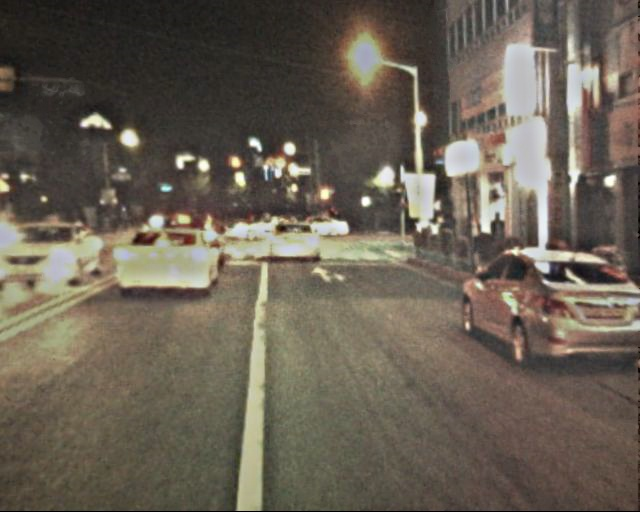person: (488, 213, 512, 272), (97, 203, 150, 229), (467, 213, 484, 254)
